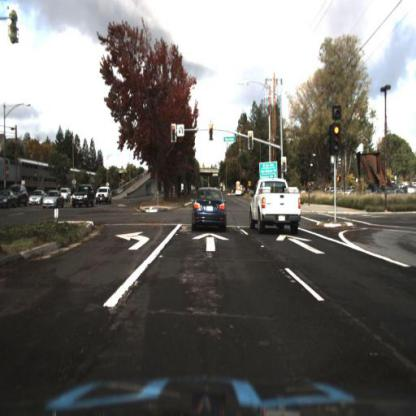car: (250, 178, 303, 234), (193, 187, 227, 227), (71, 184, 94, 211), (74, 186, 94, 211), (42, 191, 63, 212), (15, 182, 31, 205), (15, 186, 30, 210), (45, 191, 66, 208), (96, 187, 113, 206), (29, 191, 45, 209), (97, 187, 112, 205), (31, 189, 46, 204), (63, 185, 71, 206)
trafficLight-Red: (331, 122, 344, 159), (336, 122, 344, 150), (280, 156, 289, 175), (246, 131, 256, 148), (171, 124, 179, 145), (281, 156, 289, 177), (205, 126, 215, 140), (248, 129, 256, 145), (209, 124, 214, 146)
trafficLight-RedLeft: (171, 125, 179, 144)
